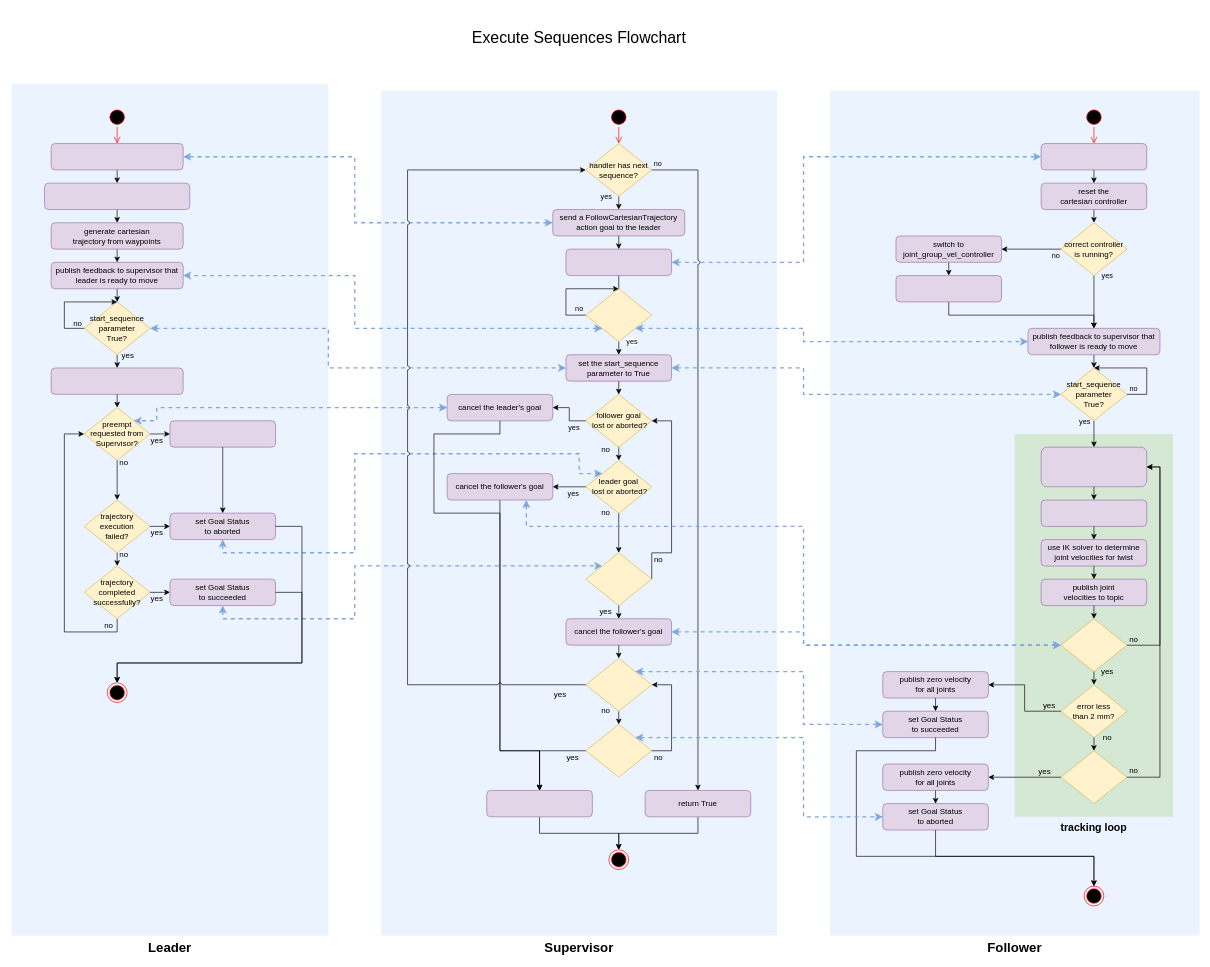
Image size: 1210x967. Some labels were removed from this diagram. Here are the shapes that lost their labels. From the top down, the box of each, then its label:
(50, 143, 183, 170): recive FollowCartesianTrajectory Goal Request
(1040, 143, 1147, 170): recive FollowFrame Goal Request
(44, 182, 190, 210): switch to pose_based_cartesian_traj_controller
(565, 248, 672, 276): send a FollowFrame action goal to the follower
(895, 275, 1002, 302): toggle the dashboard program
(585, 288, 652, 342): both leader and follower ready to move?
(50, 367, 183, 394): send planned trajectory to the FollowJointTrajectory Action Server
(169, 420, 276, 447): stop the leader executing the trajectory
(1040, 446, 1147, 487): calculate the error between the actual position and desired position
(1040, 499, 1147, 526): use controller to calculate new twist
(585, 552, 652, 606): leader goal succeeded?
(1060, 618, 1127, 672): preempt requested?
(585, 658, 652, 711): follower goal status succeeded?
(585, 724, 652, 777): follower goal status aborted?
(1060, 750, 1127, 804): timeout reached?
(486, 790, 592, 817): return False
